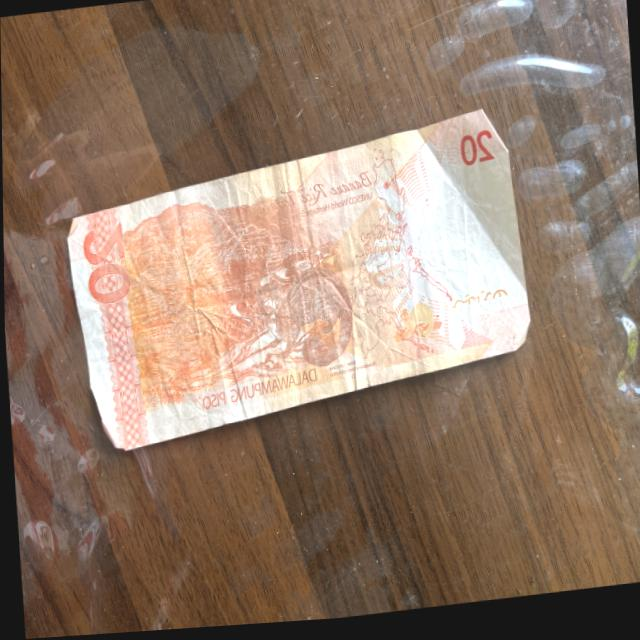20_civet: (242, 274, 358, 374)
20_civet_watermark: (396, 301, 437, 351)
